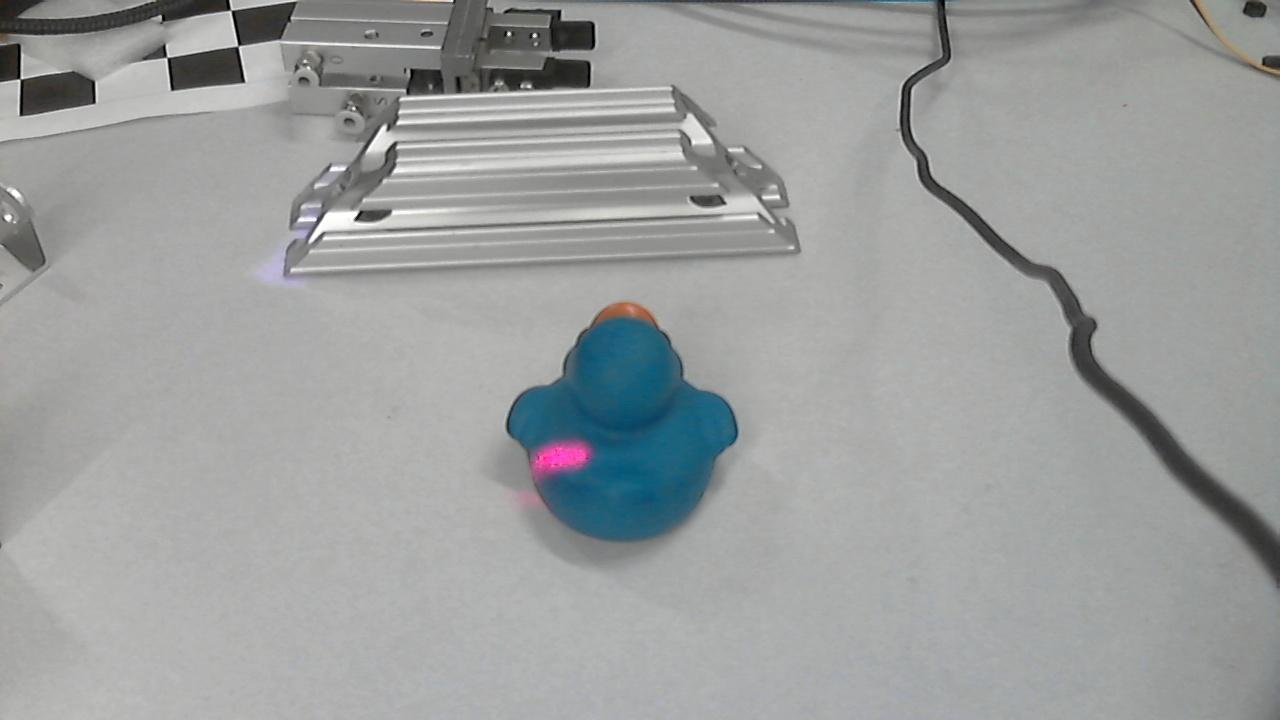Object rubber duck - Material rubber -Color blue - Pdfname BWuUnwTLudUE: (522, 428, 615, 498)
